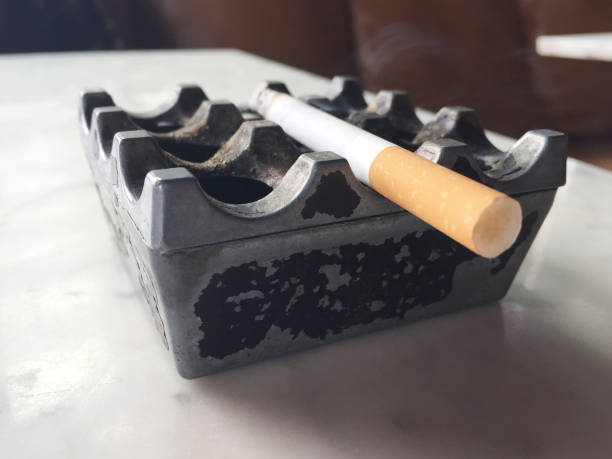cigarette: (245, 82, 526, 261)
